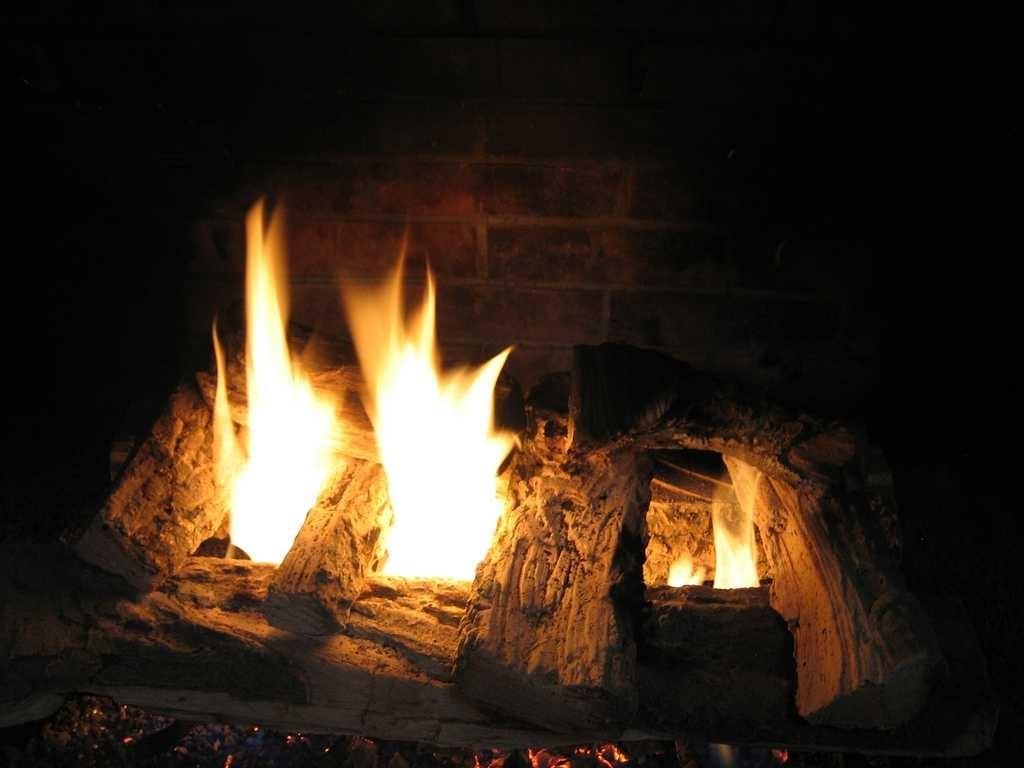fire: (384, 396, 480, 578), (248, 404, 312, 524)
